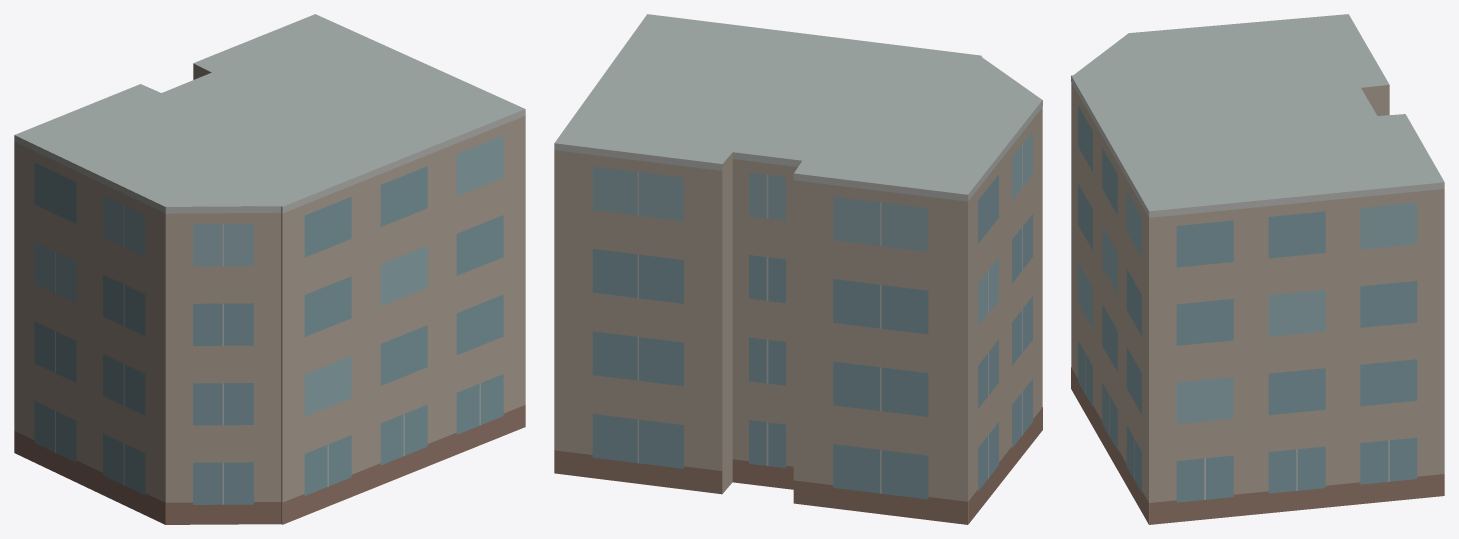
Rendered from survey-upis-32821559.glb.
3 views of the same model, side by side, from view 1: azimuth 30°, elevation 25°; view 2: azimuth 150°, elevation 25°; view 3: azimuth 270°, elevation 25° (orthographic). The views are drawn at different scales.
Visible parts, largest first — view 1: survey-upis-32821559.tmp; view 2: survey-upis-32821559.tmp; view 3: survey-upis-32821559.tmp.
Boxes of the visible parts, box(x1,y1,x2,y2) form: survey-upis-32821559.tmp: box(14, 14, 525, 524); survey-upis-32821559.tmp: box(554, 14, 1042, 524); survey-upis-32821559.tmp: box(1071, 14, 1444, 524).
Bounding box in the file's own units: 15.87 × 11.75 × 12.7.
